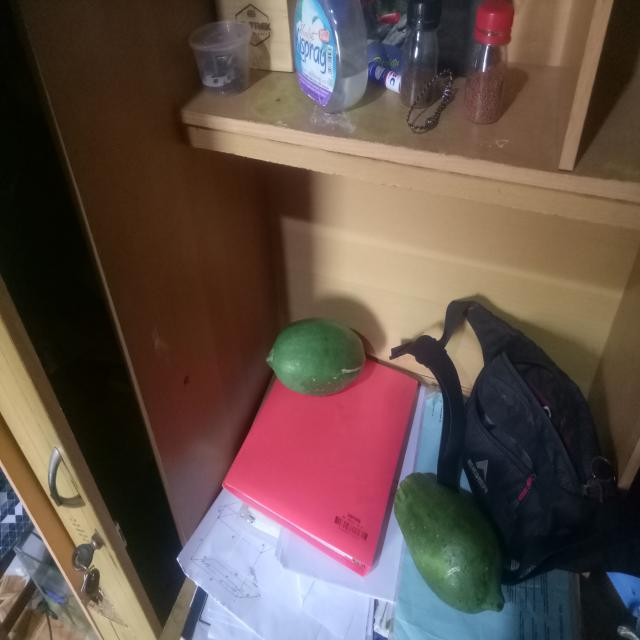Pepaya unrippen: (393, 458, 508, 614), (266, 322, 388, 414)
